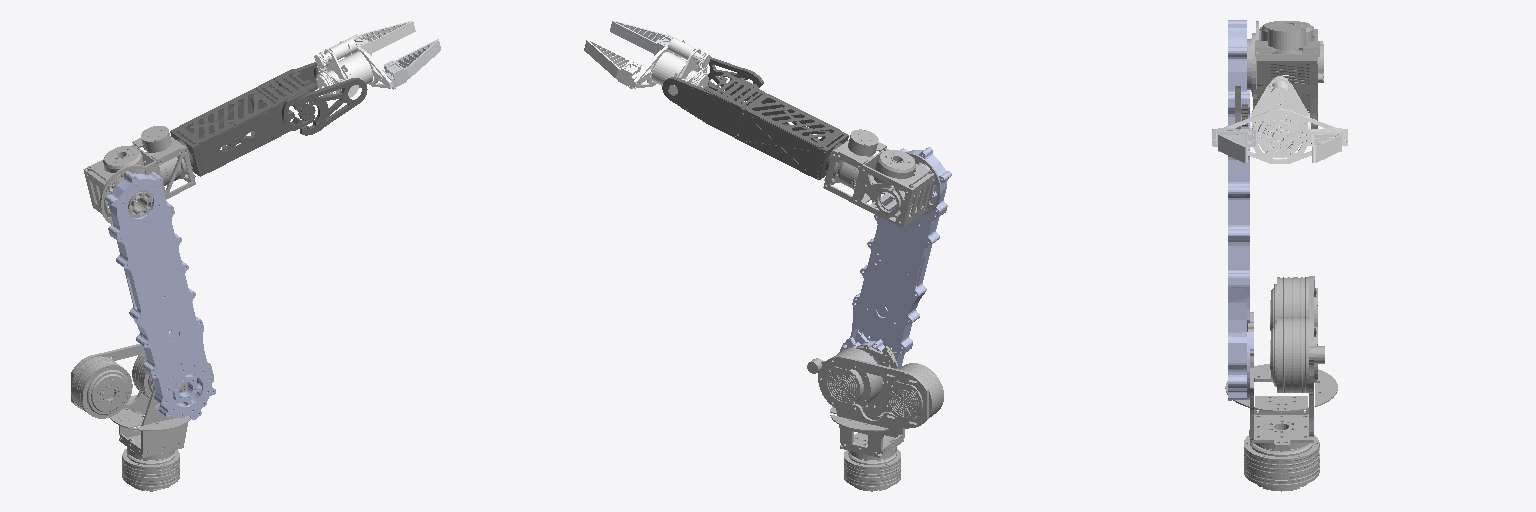
URDF robot description (arv_v1):
<?xml version="1.0" encoding="utf-8"?>
<!-- arv_v1_old.urdf — 老臂模型, **节点不加载**, 仅保留作硬件迭代历史
     这是 arv_v1 的早期原型臂, mass/inertia 跟当前真机差 2-7x
     (e.g., link2 mass 1.13 vs 当前 3.087, link4 mass 2.295 vs 当前 0.724).
     当前比赛/部署机器**不是这台**, 不要混用. 留着只是为了将来追溯.
     Generated by SolidWorks to URDF Exporter (Stephen Brawner) -->
<robot
  name="arv_v1">
  <link
    name="base_link">
    <inertial>
      <origin
        xyz="-3.96062265210927E-05 4.06405754959547E-05 -0.0285876113334189"
        rpy="0 0 0" />
      <mass
        value="0.980" />
      <inertia
        ixx="7.231E-04"
        ixy="1.430E-09"
        ixz="3.218E-08"
        iyy="7.242E-04"
        iyz="-2.724E-08"
        izz="1.107E-03" />
    </inertial>
    <visual>
      <origin
        xyz="0 0 0"
        rpy="0 0 0" />
      <geometry>
        <mesh
          filename="package://arv_v1_model/meshes/base_link.STL" />
      </geometry>
      <material
        name="">
        <color
          rgba="0.752941176470588 0.752941176470588 0.752941176470588 1" />
      </material>
    </visual>
    <collision>
      <origin xyz="0 0 -0.03" rpy="0 0 0" />
      <geometry>
        <cylinder length="0.06" radius="0.06" />
      </geometry>
    </collision>
  </link>
  <link
    name="link1">
    <inertial>
      <origin
        xyz="-0.0154999931132019 0.00790164285412029 0.10483558147126"
        rpy="0 0 0" />
      <mass
        value="2.485" />
      <inertia
        ixx="0.002558"
        ixy="8.462E-07"
        ixz="-1.852E-05"
        iyy="0.004402"
        iyz="2.423E-06"
        izz="0.002687" />
    </inertial>
    <visual>
      <origin
        xyz="0 0 0"
        rpy="0 0 0" />
      <geometry>
        <mesh
          filename="package://arv_v1_model/meshes/link1.STL" />
      </geometry>
      <material
        name="">
        <color
          rgba="0.752941176470588 0.752941176470588 0.752941176470588 1" />
      </material>
    </visual>
    <collision>
      <origin xyz="0 0 0.06" rpy="0 0 0" />
      <geometry>
        <cylinder length="0.12" radius="0.04" />
      </geometry>
    </collision>
  </link>
  <joint
    name="joint_1"
    type="revolute">
    <origin
      xyz="0 0 0"
      rpy="0 0 0" />
    <parent
      link="base_link" />
    <child
      link="link1" />
    <axis
      xyz="0 0 1" />
    <limit
      lower="-1.2217"
      upper="1.2217"
      effort="27"
      velocity="20" />
    <dynamics
      damping="0.3"
      friction="0.3" />
  </joint>
  <link
    name="link2">
    <inertial>
      <origin
        xyz="0.173164697778785 -0.000992870986536 0.0570377412581279"
        rpy="0 0 0" />
      <mass
        value="1.13036010199932" />
      <inertia
        ixx="0.00142587127922893"
        ixy="-2.2216196167755E-05"
        ixz="-6.82089241798455E-06"
        iyy="0.0161880134214926"
        iyz="-5.42767939874218E-06"
        izz="0.0175303272584084" />
    </inertial>
    <visual>
      <origin
        xyz="-0.03215 -0.131 0"
        rpy="0 0 0" />
      <geometry>
        <mesh
          filename="package://arv_v1_model/meshes/link2.STL" />
      </geometry>
      <material
        name="">
        <color
          rgba="0.792156862745098 0.819607843137255 0.933333333333333 1" />
      </material>
    </visual>
    <collision>
      <origin xyz="0.19 0 0" rpy="0 1.5708 0" />
      <geometry>
        <cylinder length="0.36" radius="0.025" />
      </geometry>
    </collision>
  </link>
  <joint
    name="joint_2"
    type="revolute">
    <origin
      xyz="0.03215 0 0.131"
      rpy="1.5707963267949 0 0" />
    <parent
      link="link1" />
    <child
      link="link2" />
    <axis
      xyz="0 0 1" />
    <limit
      lower="0.49"
      upper="3.14"
      effort="40"
      velocity="20" />
    <dynamics
      damping="0.3"
      friction="0.3" />
  </joint>
  <link
    name="link3">
    <inertial>
      <origin
        xyz="0.058615 0.000344 0.00524746875047932"
        rpy="0 0 0" />
      <mass
        value="2.211" />
      <inertia
        ixx="0.001933"
        ixy="3.672E-06"
        ixz="3.385E-06"
        iyy="0.001442"
        iyz="4.610E-05"
        izz="0.002125" />
    </inertial>
    <visual>
      <origin
        xyz="0 0 0"
        rpy="0 0 0" />
      <geometry>
        <mesh
          filename="package://arv_v1_model/meshes/link3.STL" />
      </geometry>
      <material
        name="">
        <color
          rgba="0.752941176470588 0.752941176470588 0.752941176470588 1" />
      </material>
    </visual>
    <collision>
      <origin xyz="0 -0.03 0" rpy="0 0 0" />
      <geometry>
        <cylinder length="0.06" radius="0.03" />
      </geometry>
    </collision>
  </link>
  <joint
    name="joint_3"
    type="revolute">
    <origin
      xyz="0.381000000000038 0 0"
      rpy="0 0 0" />
    <parent
      link="link2" />
    <child
      link="link3" />
    <axis
      xyz="0 0 1" />
    <limit
      lower="-0.90"
      upper="0.70"
      effort="54"
      velocity="10" />
    <dynamics
      damping="0.3"
      friction="0.3" />
  </joint>
  <link
    name="link4">
    <inertial>
      <origin
        xyz="0.001100 0.000588 0.155000"
        rpy="0 0 0" />
      <mass
        value="2.295" />
      <inertia
        ixx="0.008247"
        ixy="-2.063E-13"
        ixz="2.834E-07"
        iyy="0.008686"
        iyz="6.912E-07"
        izz="0.001099" />
    </inertial>
    <visual>
      <origin
        xyz="0 0 0"
        rpy="0 0 0" />
      <geometry>
        <mesh
          filename="package://arv_v1_model/meshes/link4.STL" />
      </geometry>
      <material
        name="">
        <color
          rgba="0.498039215686275 0.498039215686275 0.498039215686275 1" />
      </material>
    </visual>
    <collision>
      <origin xyz="0 0 0.22" rpy="0 0 0" />
      <geometry>
        <cylinder length="0.43" radius="0.02" />
      </geometry>
    </collision>
  </link>
  <joint
    name="joint_4"
    type="revolute">
    <origin
      xyz="0 0 0"
      rpy="1.5707963267949 0 0" />
    <parent
      link="link3" />
    <child
      link="link4" />
    <axis
      xyz="0 0 1" />
    <limit
      lower="-2.975"
      upper="3.14"
      effort="1.2"
      velocity="40" />
    <dynamics
      damping="0.3"
      friction="0.3" />
  </joint>
  <link
    name="link5">
    <inertial>
      <origin
        xyz="0.0160961942906923 0.000873845892292946 0.00896455872794405"
        rpy="0 0 0" />
      <mass
        value="0.180" />
      <inertia
        ixx="2.953E-05"
        ixy="1.153E-07"
        ixz="8.452E-08"
        iyy="5.008E-05"
        iyz="-1.880E-08"
        izz="2.968E-05" />
    </inertial>
    <visual>
      <origin
        xyz="0 0 0"
        rpy="0 0 0" />
      <geometry>
        <mesh
          filename="package://arv_v1_model/meshes/link5.STL" />
      </geometry>
      <material
        name="">
        <color
          rgba="1 1 1 1" />
      </material>
    </visual>
    <collision>
      <origin xyz="0.01 0 0" rpy="0 0 0" />
      <geometry>
        <cylinder length="0.03" radius="0.015" />
      </geometry>
    </collision>
  </link>
  <joint
    name="joint_5"
    type="revolute">
    <origin
      xyz="0.00129999999995989 -0.00719999999941014 0.43888820457198"
      rpy="-1.5707963267949 0 0" />
    <parent
      link="link4" />
    <child
      link="link5" />
    <axis
      xyz="0 0 1" />
    <limit
      lower="-1.5708"
      upper="1.5708"
      effort="7"
      velocity="20" />
    <dynamics
      damping="0.2"
      friction="0.2" />
  </joint>
  <link
    name="link6">
    <inertial>
      <origin
        xyz="-1.71529457304587E-14 0.0093499999991507 0.0563050373172609"
        rpy="0 0 0" />
      <mass
        value="0.106" />
      <inertia
        ixx="1.832E-04"
        ixy="5.839E-20"
        ixz="-2.422E-19"
        iyy="2.778E-05"
        iyz="-2.002E-19"
        izz="2.104E-04" />
    </inertial>
    <visual>
      <origin
        xyz="0 0 0"
        rpy="0 0 0" />
      <geometry>
        <mesh
          filename="package://arv_v1_model/meshes/link6.STL" />
      </geometry>
      <material
        name="">
        <color
          rgba="1 1 1 1" />
      </material>
    </visual>
    <collision>
      <origin xyz="0 0 0.03" rpy="0 0 0" />
      <geometry>
        <cylinder length="0.06" radius="0.015" />
      </geometry>
    </collision>
  </link>
  <joint
    name="joint_6"
    type="continuous">
    <origin
      xyz="0 0 0"
      rpy="1.57079632679552 0 0" />
    <parent
      link="link5" />
    <child
      link="link6" />
    <axis
      xyz="0 0 1" />
    <limit
      effort="1"
      velocity="20" />
    <dynamics
      damping="0.3"
      friction="0.4" />
  </joint>
  <link name="tcp"/>
  <joint name="joint_tcp" type="fixed">
    <origin xyz="0 0.000 0.179" rpy="0 0 0"/>
    <parent link="link6"/>
    <child link="tcp"/>
    <axis xyz="0 0 0"/>
  </joint>
  <link
    name="link_gripper1">
    <inertial>
      <origin
        xyz="2.95056978849573E-10 -0.0510942800009356 0.0859279675185114"
        rpy="0 0 0" />
      <mass
        value="0.104" />
      <inertia
        ixx="6.198E-05"
        ixy="8.695E-20"
        ixz="3.995E-19"
        iyy="5.250E-05"
        iyz="-7.314E-06"
        izz="2.048E-05" />
    </inertial>
    <visual>
      <origin
        xyz="0 0 0"
        rpy="0 0 0" />
      <geometry>
        <mesh
          filename="package://arv_v1_model/meshes/link_gripper1.STL" />
      </geometry>
      <material
        name="">
        <color
          rgba="1 1 1 1" />
      </material>
    </visual>
    <collision>
      <origin xyz="0 -0.05 0.09" rpy="0 0 0" />
      <geometry>
        <box size="0.012 0.012 0.06" />
      </geometry>
    </collision>
  </link>
  <joint
    name="joint_gripper1"
    type="prismatic">
    <origin
      xyz="0 0 0"
      rpy="0 0 0" />
    <parent
      link="link6" />
    <child
      link="link_gripper1" />
    <axis
      xyz="0 1 0" />
    <limit
      lower="0"
      upper="0.04"
      effort="70"
      velocity="0.1" />
    <dynamics
      damping="0.5"
      friction="0.5" />
  </joint>
  <link
    name="link_gripper2">
    <inertial>
      <origin
        xyz="6.38378239159465E-15 0.0697942805013251 0.0859376907229839"
        rpy="0 0 0" />
      <mass
        value="0.104" />
      <inertia
        ixx="6.198E-05"
        ixy="-7.226E-20"
        ixz="3.982E-19"
        iyy="5.250E-05"
        iyz="7.314E-06"
        izz="2.048E-05" />
    </inertial>
    <visual>
      <origin
        xyz="0 0 0"
        rpy="0 0 0" />
      <geometry>
        <mesh
          filename="package://arv_v1_model/meshes/link_gripper2.STL" />
      </geometry>
      <material
        name="">
        <color
          rgba="0.898039215686275 0.917647058823529 0.929411764705882 1" />
      </material>
    </visual>
    <collision>
      <origin xyz="0 0.05 0.09" rpy="0 0 0" />
      <geometry>
        <box size="0.012 0.012 0.06" />
      </geometry>
    </collision>
  </link>
  <joint
    name="joint_gripper2"
    type="prismatic">
    <origin
      xyz="0 0 0"
      rpy="0 0 0" />
    <parent
      link="link6" />
    <child
      link="link_gripper2" />
    <axis
      xyz="0 1 0" />
    <limit
      lower="-0.04"
      upper="0"
      effort="70"
      velocity="0.1" />
    <dynamics
      damping="0.5"
      friction="0.5" />
    <mimic
      joint="joint_gripper1"
      multiplier="-1"
      offset="0" />
  </joint>
  <link name="world"/>
  <joint name="world_fixed" type="fixed">
    <parent link="world"/>
    <child link="base_link"/>
    <origin xyz="-0.1 0 0.15" rpy="0 0 0"/>    
  </joint>
</robot>

--- Render facts (derived) ---
Views: 3 orthographic renders of the robot side by side, from view 1: azimuth 30°, elevation 25°; view 2: azimuth 150°, elevation 25°; view 3: azimuth 270°, elevation 25°.
Model arv_v1 with 11 links and 10 joints (5 revolute, 1 continuous, 2 prismatic, 2 fixed), rooted at world, posed joints at zero except 1 at the middle of their limits (joint_2 = 1.81).
Links seen in each view (by area): view 1: link2, link4, link1, link3, link5, base_link, link_gripper2, link_gripper1; view 2: link1, link4, link2, link3, link5, base_link, link_gripper1, link_gripper2; view 3: link1, link2, link3, base_link, link4, link6, link5, link_gripper2, link_gripper1.
Link boxes in pixels (box(x1,y1,x2,y2)): link2: box(105, 171, 215, 419); link4: box(170, 62, 367, 176); link1: box(71, 344, 197, 459); link3: box(83, 126, 195, 224); link5: box(314, 38, 372, 97); base_link: box(122, 449, 179, 491); link_gripper2: box(382, 39, 440, 89); link_gripper1: box(340, 21, 415, 55); link1: box(807, 343, 943, 459); link4: box(662, 57, 848, 179); link2: box(839, 147, 951, 392); link3: box(823, 129, 941, 227); link5: box(652, 38, 710, 93); base_link: box(844, 449, 900, 491); link_gripper1: box(584, 39, 644, 88); link_gripper2: box(610, 21, 684, 55); link1: box(1225, 276, 1337, 450); link2: box(1228, 20, 1253, 400); link3: box(1247, 21, 1323, 96); base_link: box(1244, 435, 1319, 491); link4: box(1235, 61, 1317, 143); link6: box(1214, 110, 1345, 163); link5: box(1250, 76, 1310, 157); link_gripper2: box(1212, 128, 1255, 162); link_gripper1: box(1304, 128, 1347, 162).
Bounding box of the posed robot: 0.6796 × 0.175 × 0.7417 m (x, y, z).
9 mesh visuals loaded from 9 distinct referenced files (9 binary STL).
